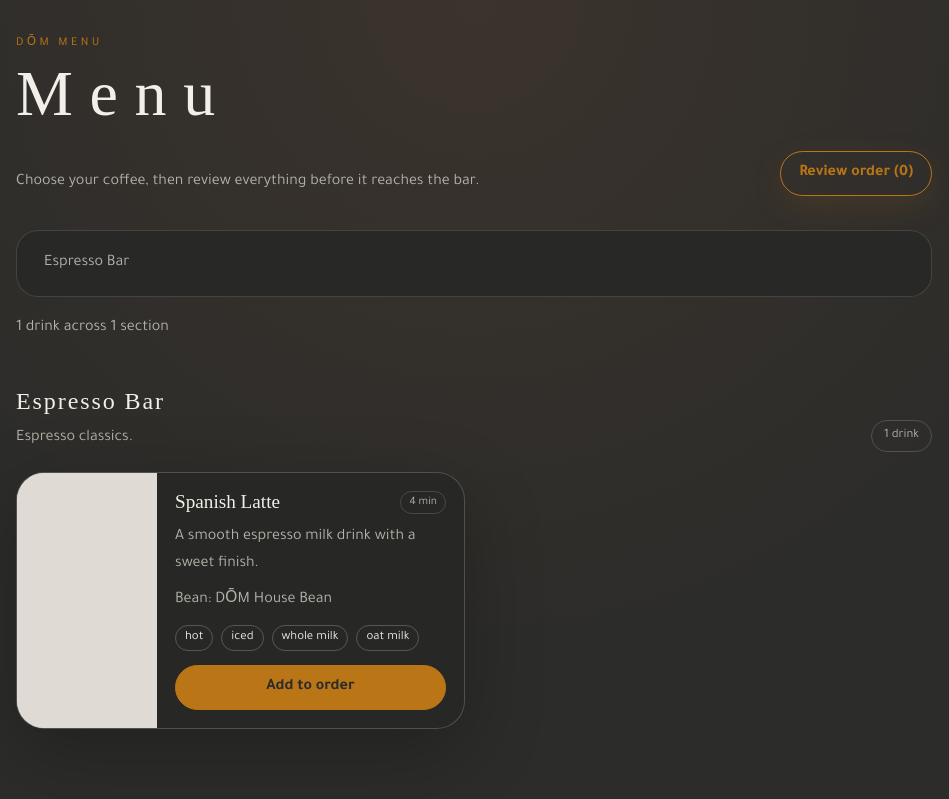
Phase 3 guest frontend › shows the menu, adds a drink, and submits the cart
The width and height of the screenshot is (949, 799).
Expected: the heading "Spanish Latte" is shown, [175, 491, 280, 513]
Expected: the text "1 drink across 1 section" is shown, [16, 320, 169, 336]
Click the button with aria-label "add spanish latte" at point(310, 688), box [175, 665, 446, 710]
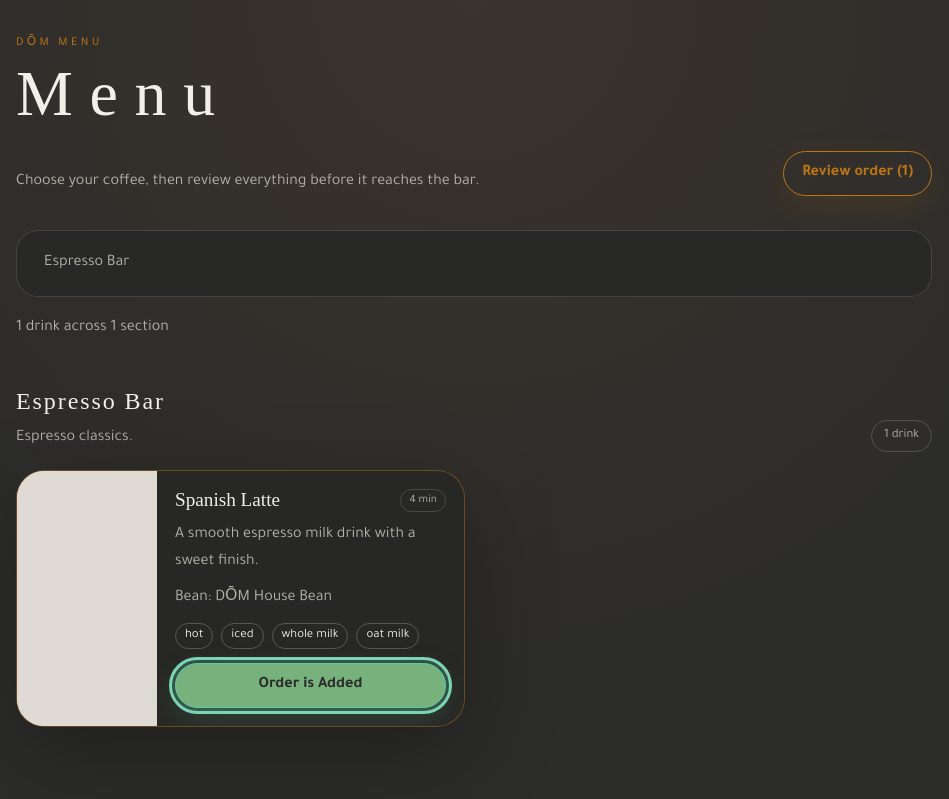
Expected: the button with aria-label "spanish latte added to order" reads "Order is Added", [175, 663, 446, 708]
Click the link "Review order (1)" at point(858, 174), box [783, 151, 932, 196]
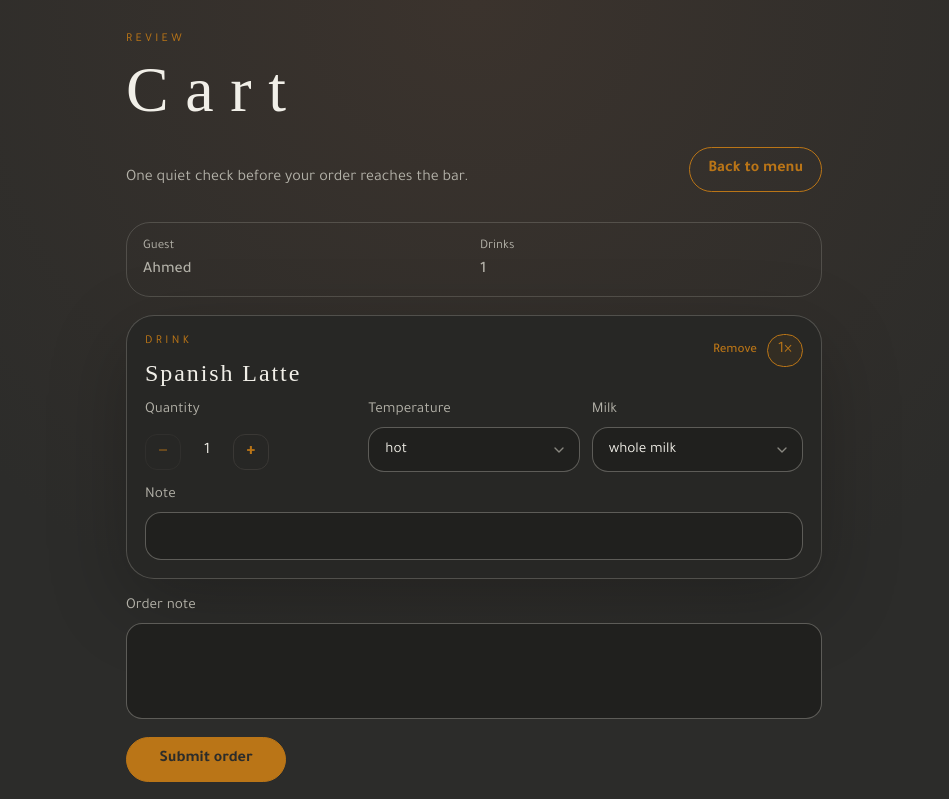
Expected: the heading "Spanish Latte" is shown, [145, 360, 301, 387]
Expected: the text "One quiet check before your order reaches the bar." is shown, [126, 170, 468, 186]
Expected: the text "Guest" is shown, [143, 240, 174, 253]
Click the button named "increase spanish latte quantity" at point(251, 452), box [233, 434, 269, 470]
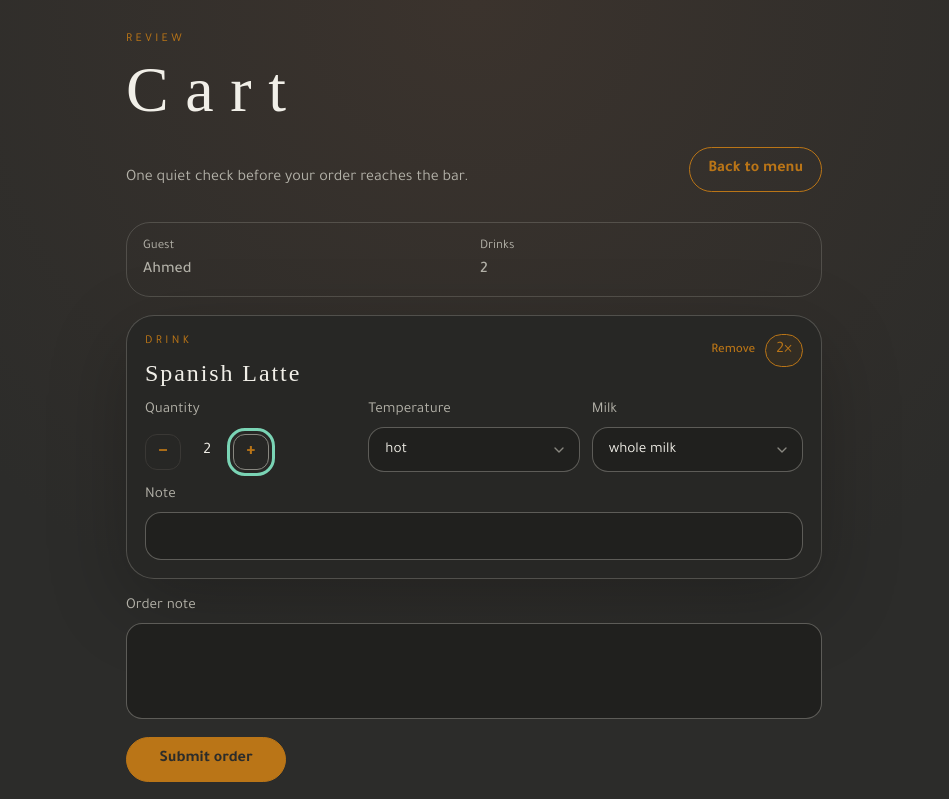
Expected: the text "2×" is shown, [765, 334, 803, 367]
Click the button named "decrease spanish latte quantity" at point(163, 452), box [145, 434, 181, 470]
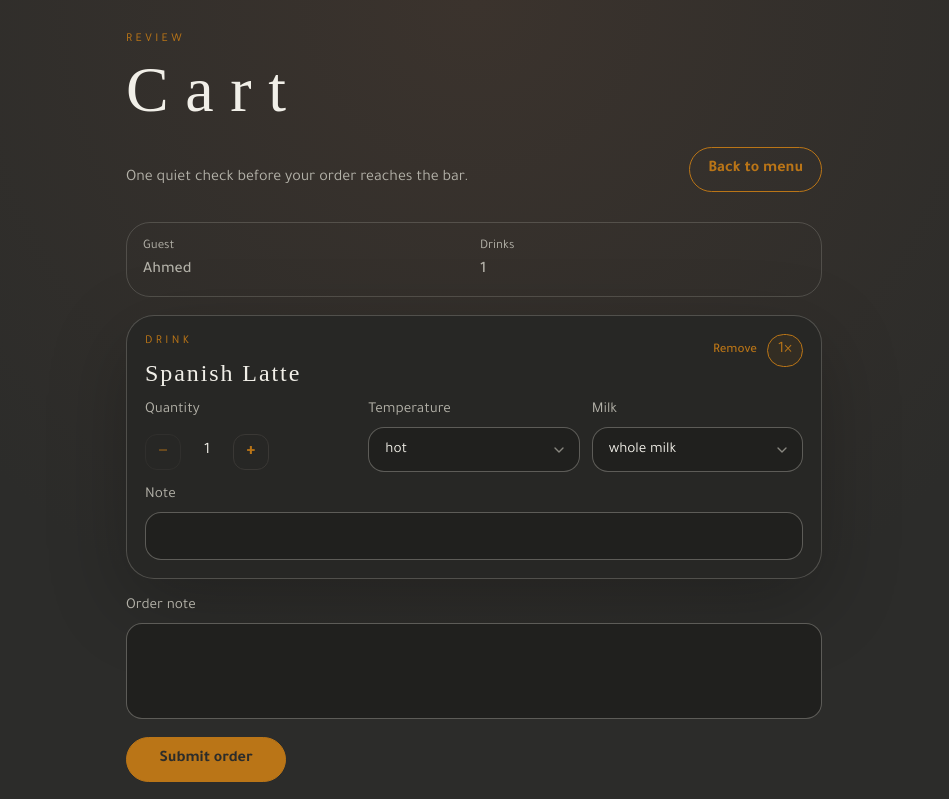
Expected: the text "1×" is shown, [767, 334, 803, 367]
Click the button "Submit order" at point(206, 760), box [126, 737, 286, 782]
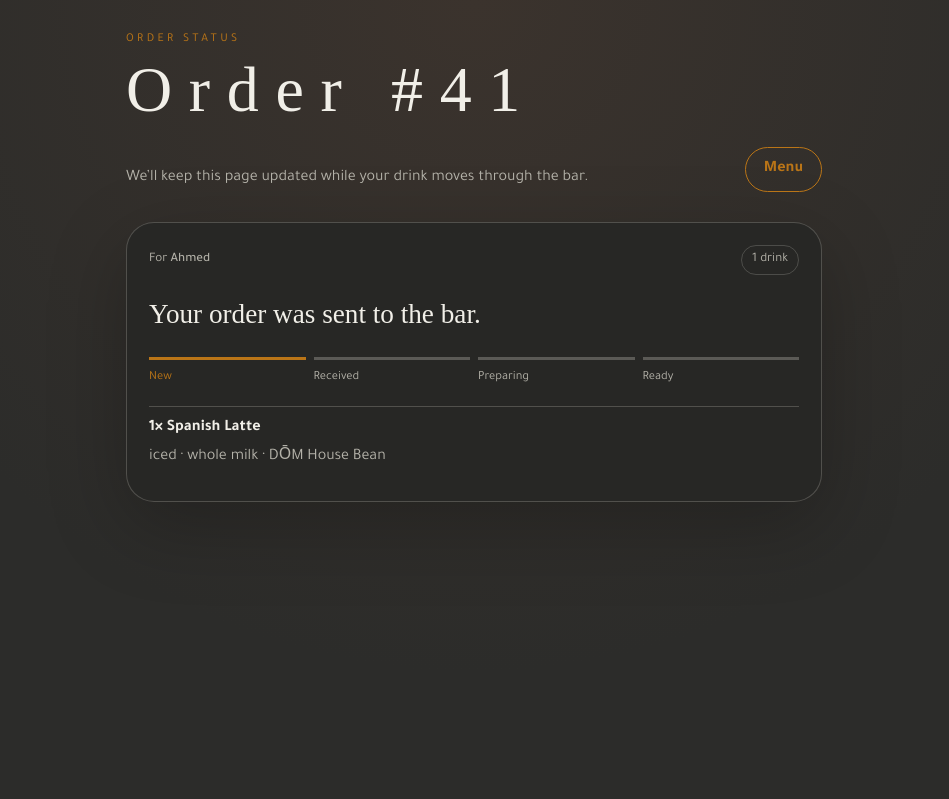
Expected: the heading "Order #41" is shown, [126, 58, 588, 122]
Expected: the text "We’ll keep this page updated while your drink moves through the bar." is shown, [126, 170, 588, 186]
Expected: the text "For" is shown, [149, 253, 170, 266]
